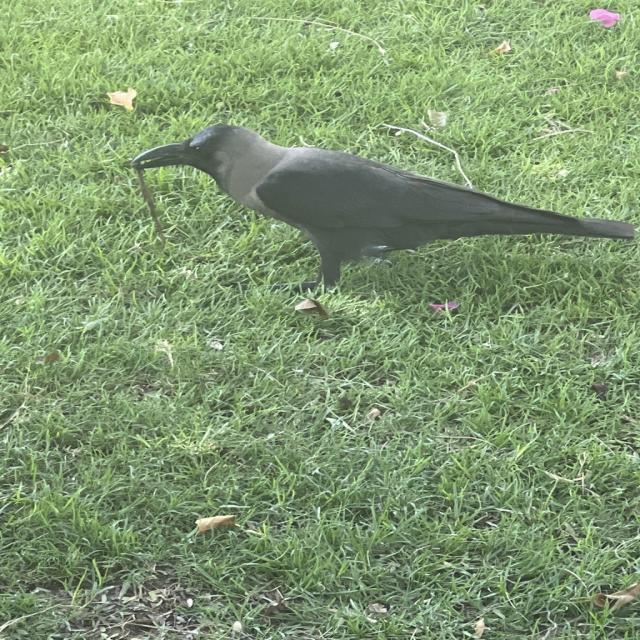bird: (121, 118, 640, 322)
